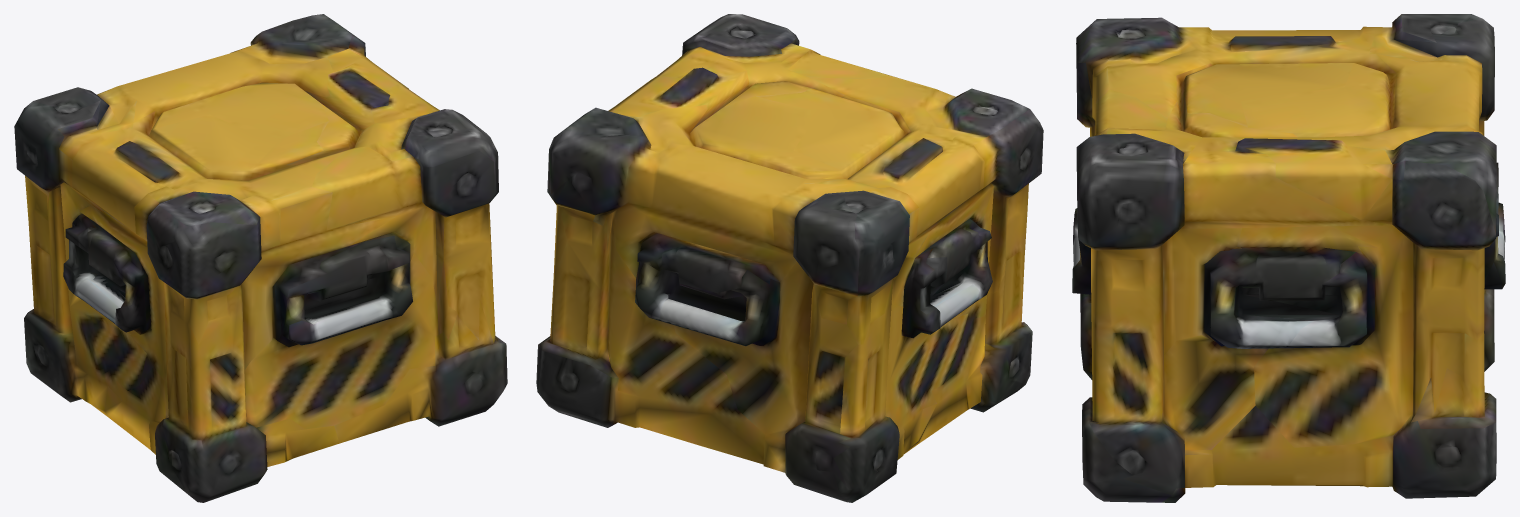
The model's file is env-crate-yellow.glb.
The picture shows the model from 3 angles, left to right: view 1: azimuth 30°, elevation 25°; view 2: azimuth 150°, elevation 25°; view 3: azimuth 270°, elevation 25°; orthographic projection. The views are drawn at different scales.
Parts seen in each view (by area): view 1: env-crate-yellow; view 2: env-crate-yellow; view 3: env-crate-yellow.
Part boxes in pixels (x1,y1,x2,y2): env-crate-yellow: [14, 14, 507, 502]; env-crate-yellow: [536, 14, 1043, 502]; env-crate-yellow: [1072, 14, 1505, 502].
Size of the model in its own units: 1.7 by 1.47 by 1.6.
Materials: 1 (1 with a texture image).
